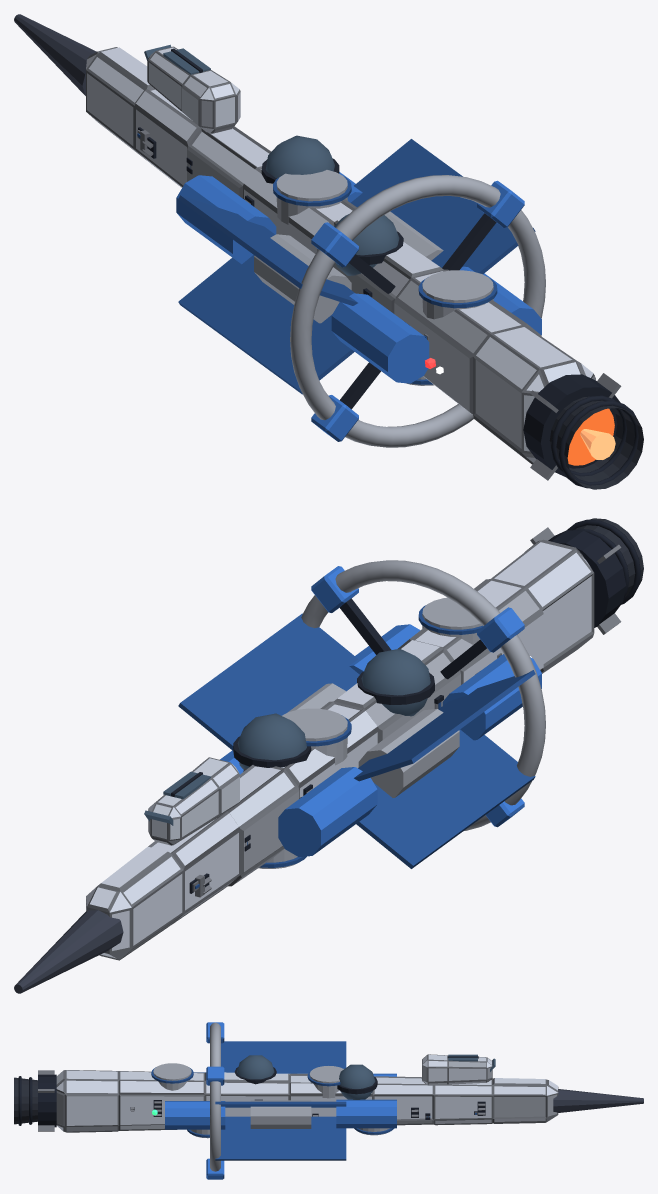
Rendered from pathfinder.glb.
The picture shows the model from 3 angles, top to bottom: view 1: azimuth 30°, elevation 25°; view 2: azimuth 150°, elevation 25°; view 3: azimuth 270°, elevation 25°; orthographic projection. The views are drawn at different scales.
Visible parts, largest first — view 1: pathfinder_mesh, ring_mesh; view 2: pathfinder_mesh, ring_mesh; view 3: pathfinder_mesh, ring_mesh.
Boxes of the visible parts, x1,y1,x2,y2 form: pathfinder_mesh: [14, 14, 643, 489]; ring_mesh: [290, 175, 545, 447]; pathfinder_mesh: [14, 518, 643, 993]; ring_mesh: [301, 560, 545, 830]; pathfinder_mesh: [14, 1041, 643, 1160]; ring_mesh: [206, 1022, 224, 1179].
Size of the model in its own units: 4.98 by 4.98 by 19.99.
